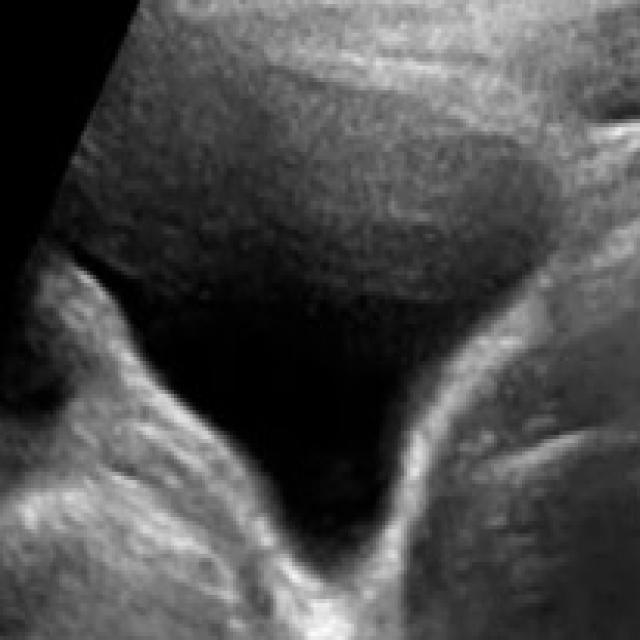bladder: (31, 10, 613, 604)
